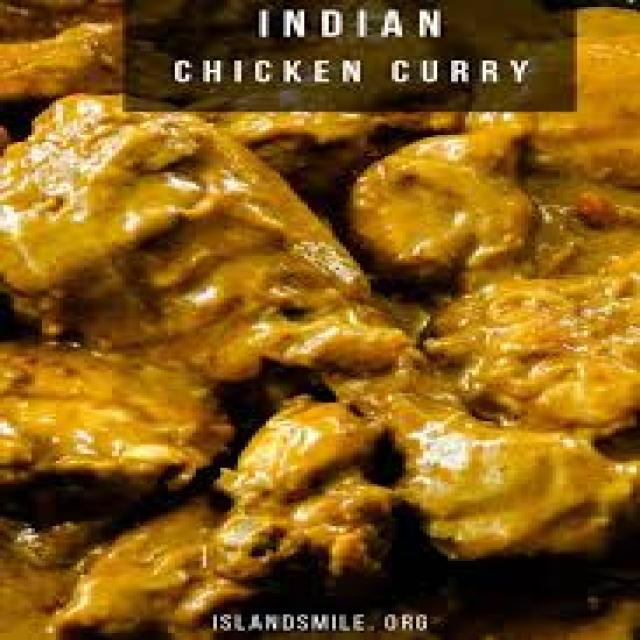Frango: (3, 130, 640, 608)
